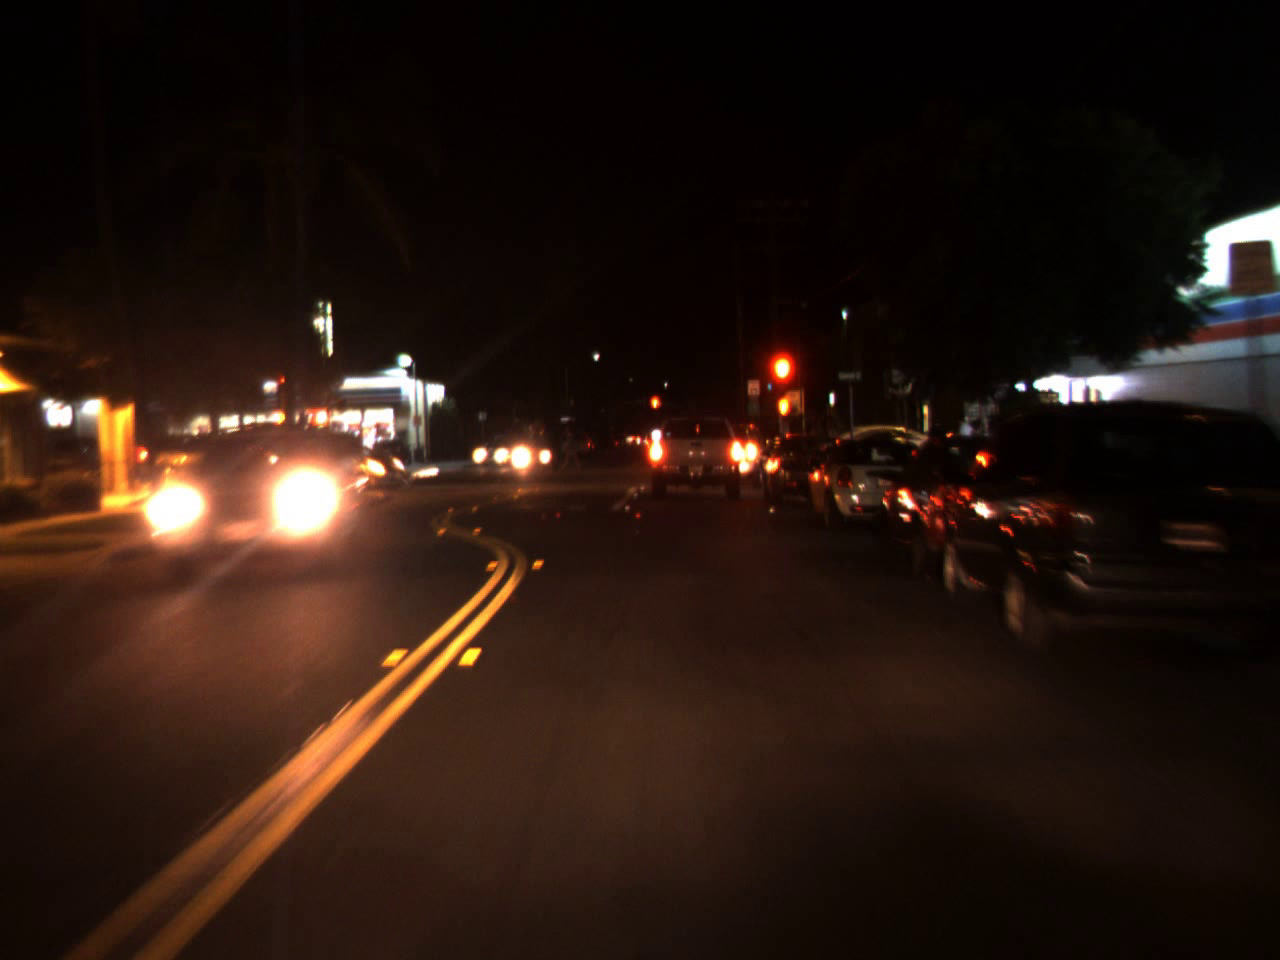stop: (763, 345, 800, 420), (648, 394, 661, 423), (274, 371, 287, 398)
